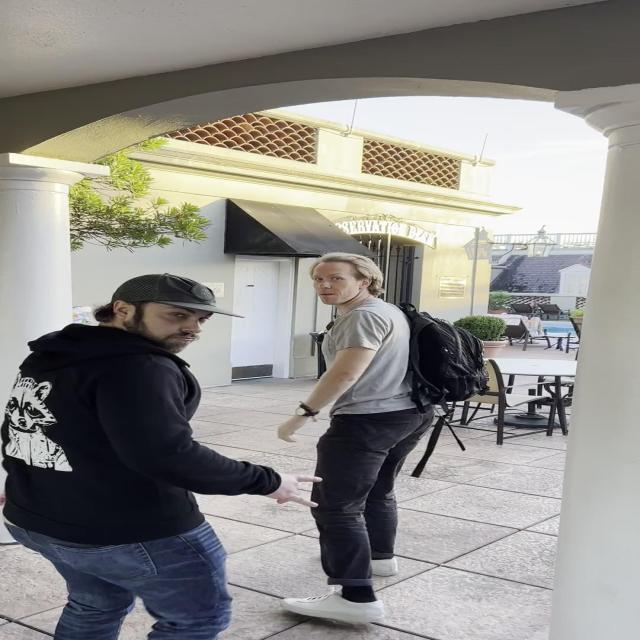NO-Mask: (143, 301, 213, 351), (313, 261, 360, 304)
